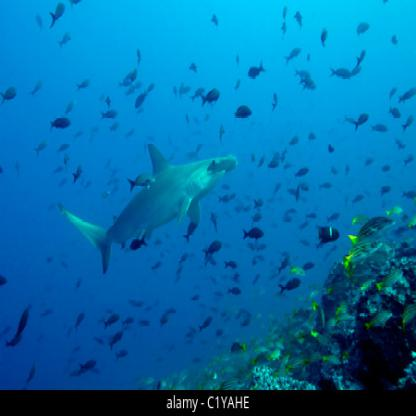hammerhead_Shark: (52, 113, 260, 285)
